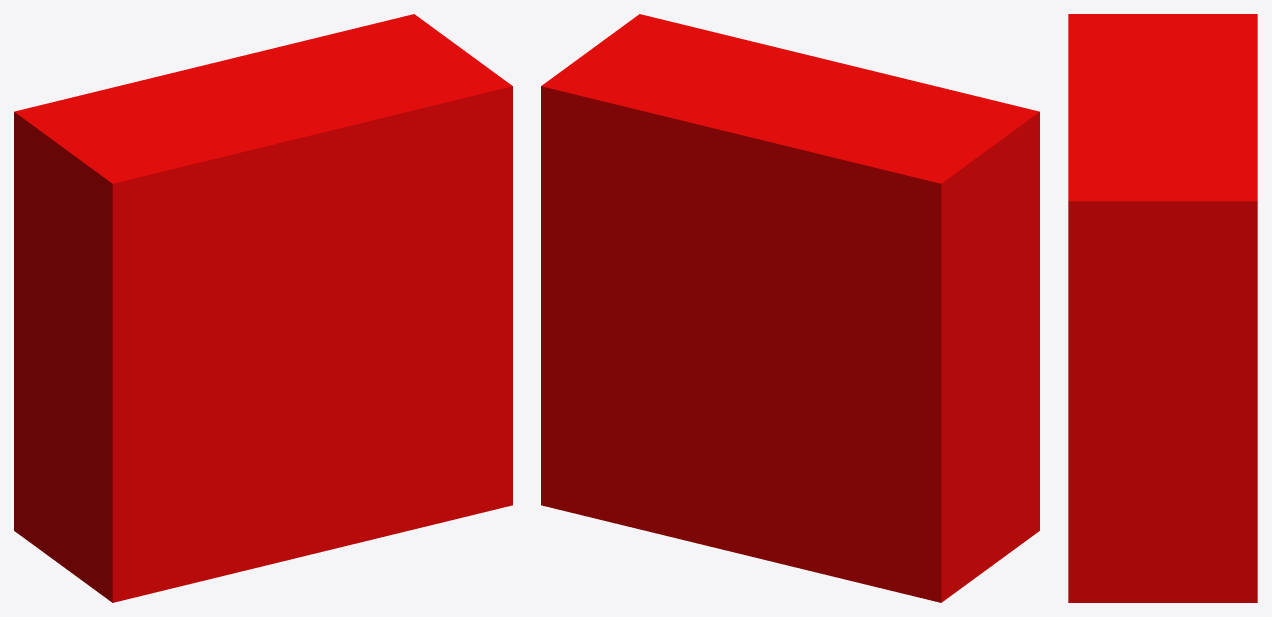
The model's file is cerv6sm_col.dae.
The picture shows the model from 3 angles, left to right: view 1: azimuth 30°, elevation 25°; view 2: azimuth 150°, elevation 25°; view 3: azimuth 270°, elevation 25°; orthographic projection. The views are drawn at different scales.
Parts seen in each view (by area): view 1: node0; view 2: node0; view 3: node0.
Boxes of the visible parts, box(x1,y1,x2,y2) form: node0: box(14, 14, 512, 602); node0: box(541, 14, 1039, 602); node0: box(1068, 14, 1257, 602).
Size of the model in its own units: 0.0684 by 0.0684 by 0.0292.
